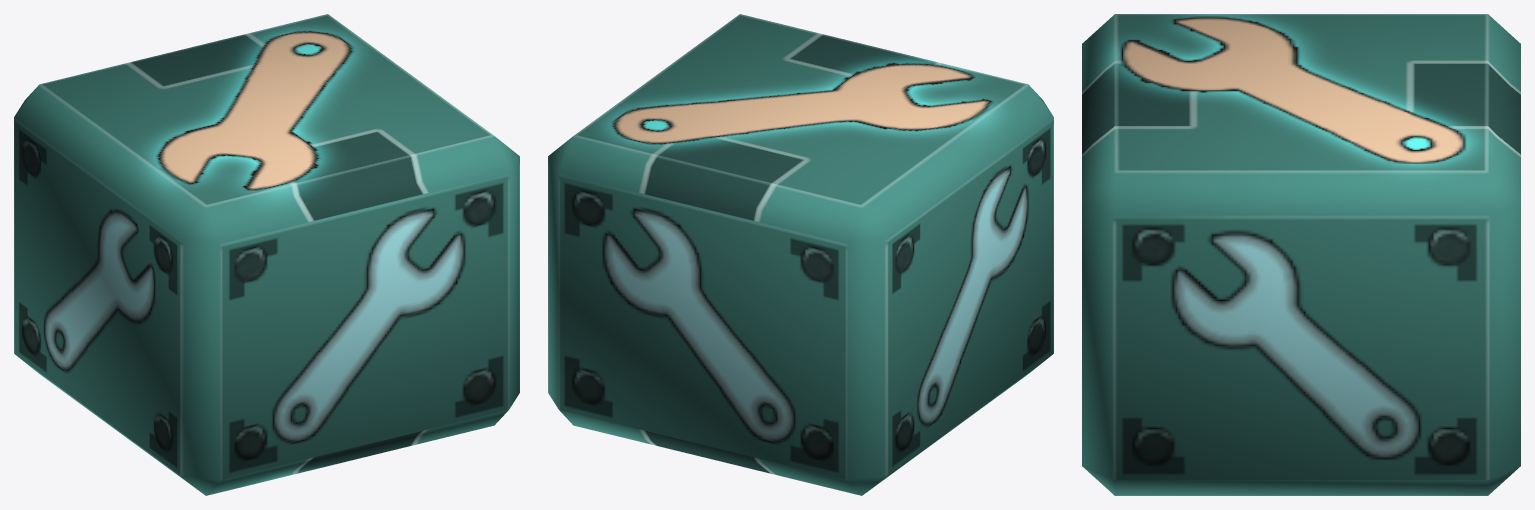
The model's file is fixbox.FBX.
The picture shows the model from 3 angles, left to right: view 1: azimuth 30°, elevation 25°; view 2: azimuth 150°, elevation 25°; view 3: azimuth 270°, elevation 25°; orthographic projection. The views are drawn at different scales.
Visible parts, largest first — view 1: fixbox; view 2: fixbox; view 3: fixbox.
Boxes of the visible parts, x1,y1,x2,y2 form: fixbox: (14,14,519,495); fixbox: (548,14,1053,495); fixbox: (1082,14,1520,495).
Size of the model in its own units: 90.38 by 73.73 by 90.38.
